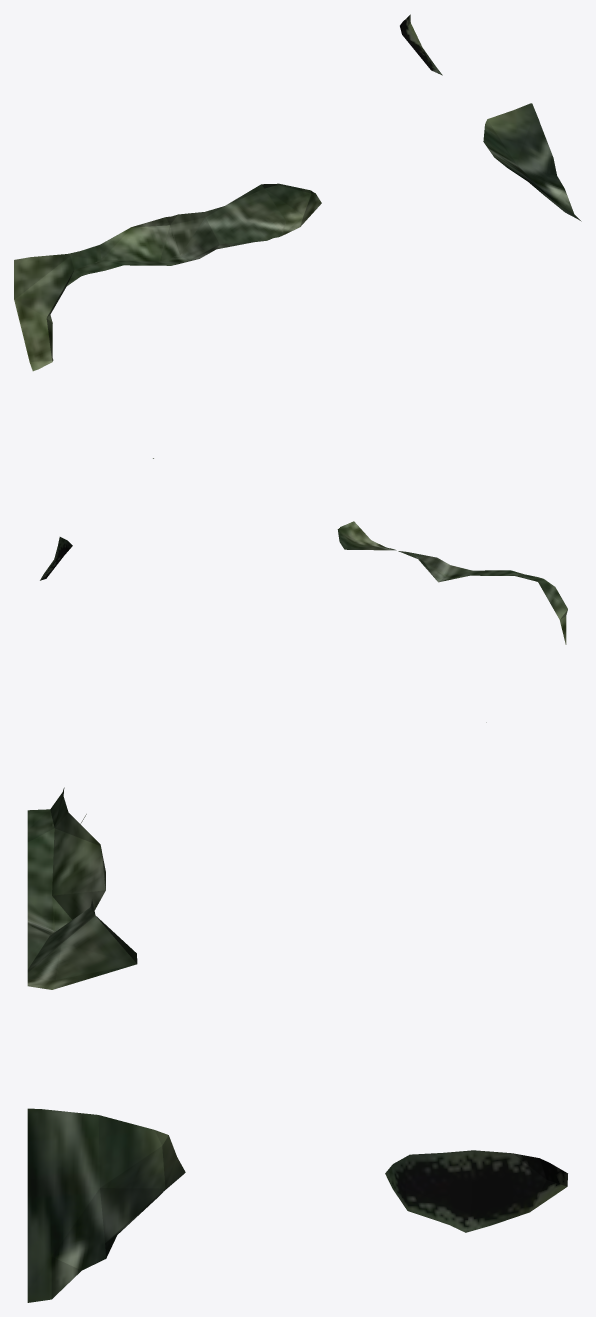
The picture shows the model from 3 angles, top to bottom: view 1: azimuth 30°, elevation 25°; view 2: azimuth 150°, elevation 25°; view 3: azimuth 270°, elevation 25°; orthographic projection. The views are drawn at different scales.
Size of the model in its own units: 5.9 by 2.2 by 3.19.
1 material, 1 textured.
